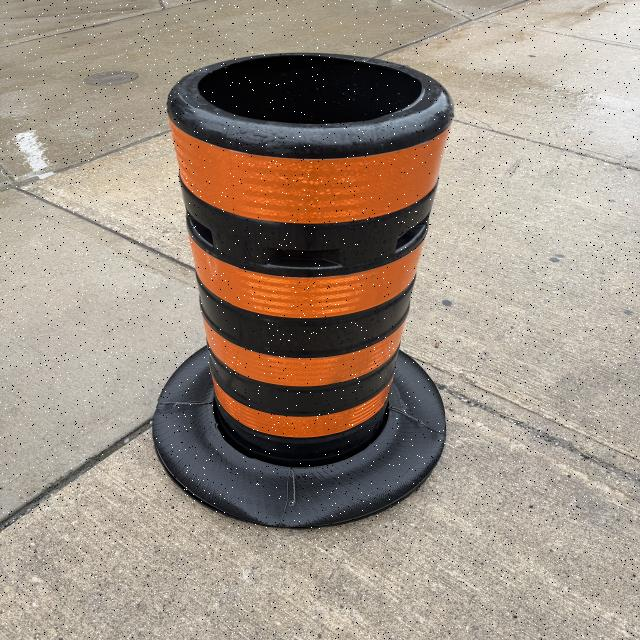Teraffic Barrel: (153, 54, 453, 527)
